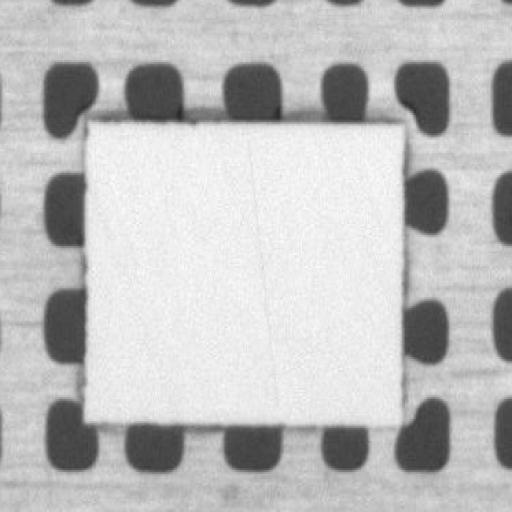DIE_CRACK: (328, 107, 366, 305)
